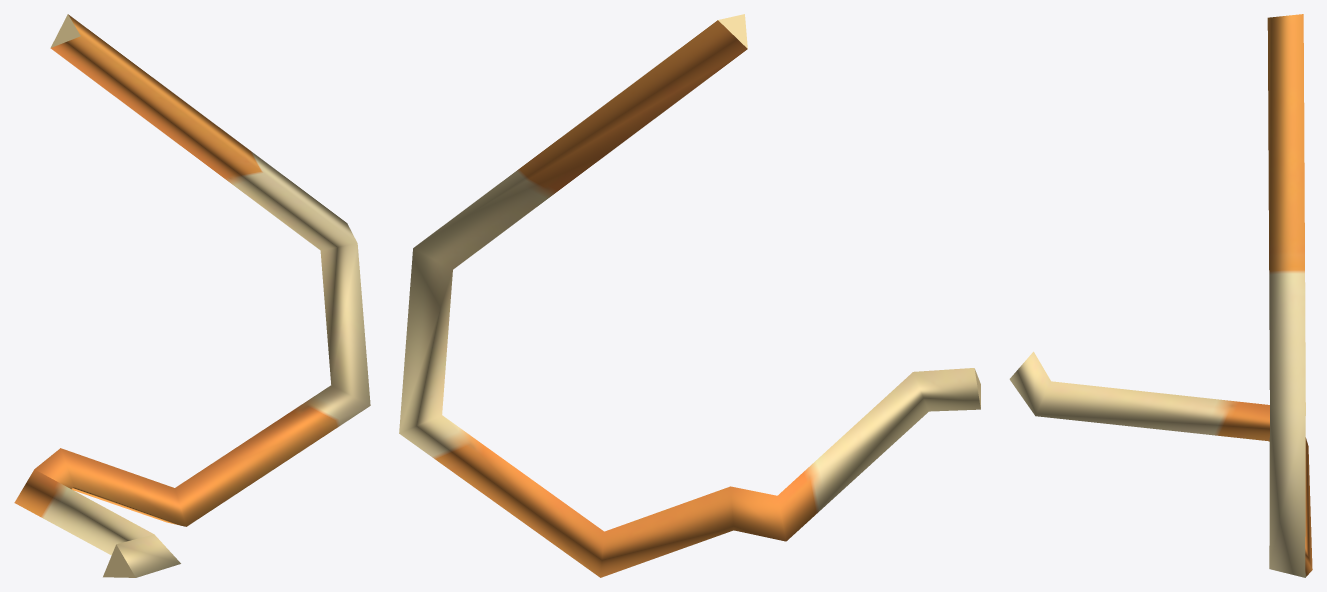
Rendered from sundries_26_f9beeec2__ZombiesII_depot_diffuse_03_573b45f4_c1f257.obj.
3 renders of one model, left to right at view 1: azimuth 30°, elevation 25°; view 2: azimuth 150°, elevation 25°; view 3: azimuth 270°, elevation 25°, orthographic. The views are drawn at different scales.
Bounding box in the file's own units: 1.52 × 1.96 × 1.06.
1 material, 1 textured.
